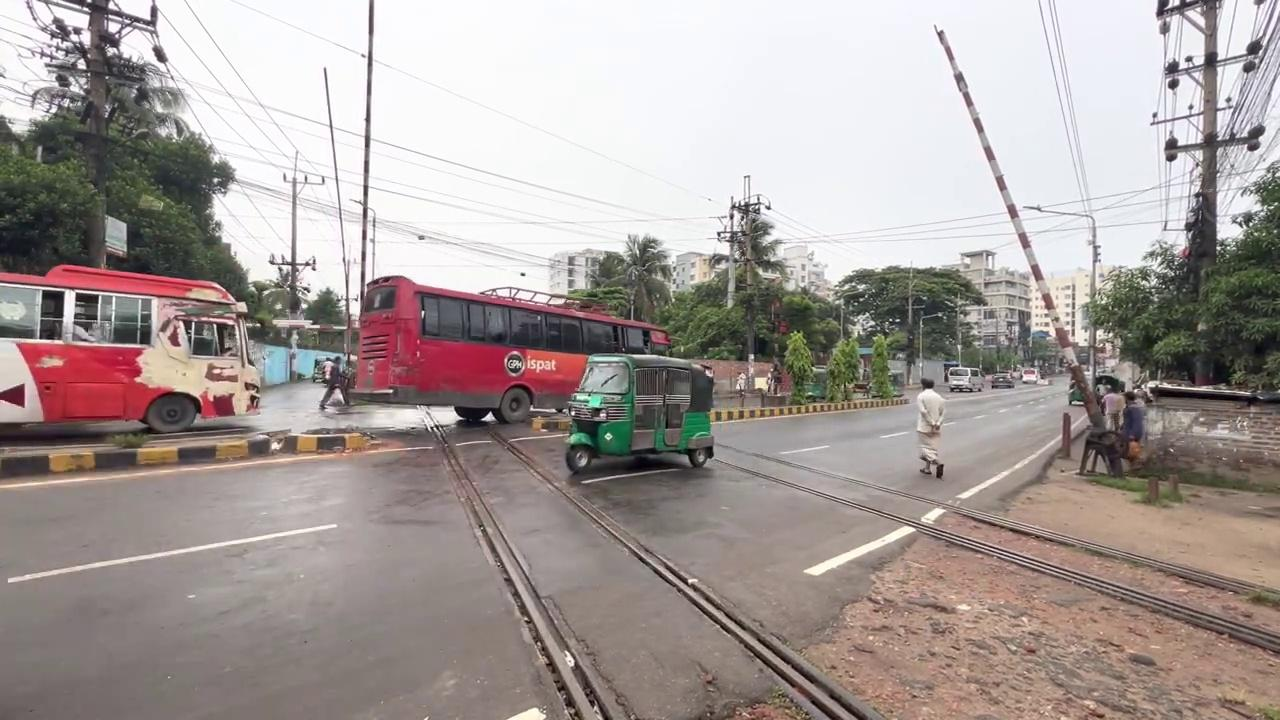Car: (2, 426, 380, 476), (708, 394, 911, 423)
Fence: (915, 377, 946, 478), (735, 371, 746, 397)
Garbage: (932, 24, 1107, 431), (357, 0, 376, 314)
Motorcycle: (416, 403, 1278, 717)
Railroad-crossing: (782, 329, 814, 404), (824, 335, 860, 401), (868, 333, 893, 398)
Rickshaw: (0, 240, 306, 446), (344, 252, 688, 416), (563, 351, 715, 473)
